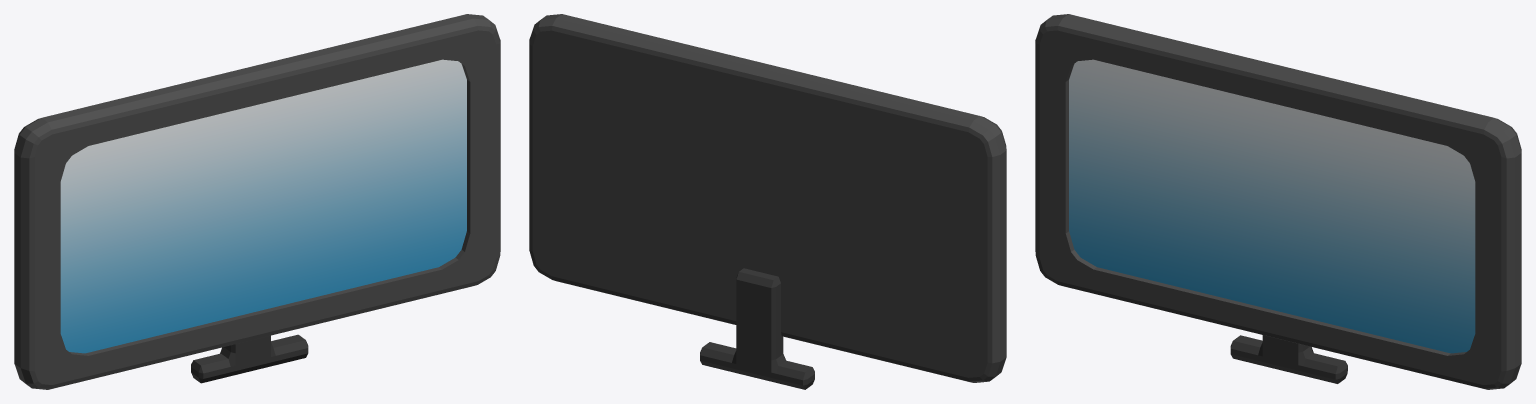
File: ModernTV.fbx
3 views of the same model, side by side, from view 1: azimuth 30°, elevation 25°; view 2: azimuth 150°, elevation 25°; view 3: azimuth 330°, elevation 25° (orthographic).
Visible parts, largest first — view 1: ModernTV; view 2: ModernTV; view 3: ModernTV.
Boxes of the visible parts, bbox=[...] form: ModernTV: bbox=[14, 14, 500, 389]; ModernTV: bbox=[529, 14, 1006, 389]; ModernTV: bbox=[1035, 14, 1521, 389].
Bounding box in the file's own units: 2 × 1.22 × 0.1686.
Materials: 1 (1 with a texture image).
